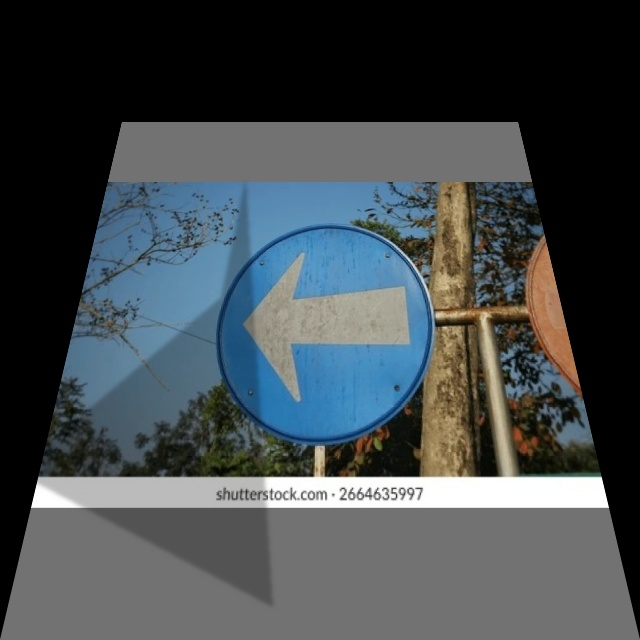Compulsory_Turn_Left: (212, 228, 447, 439)
